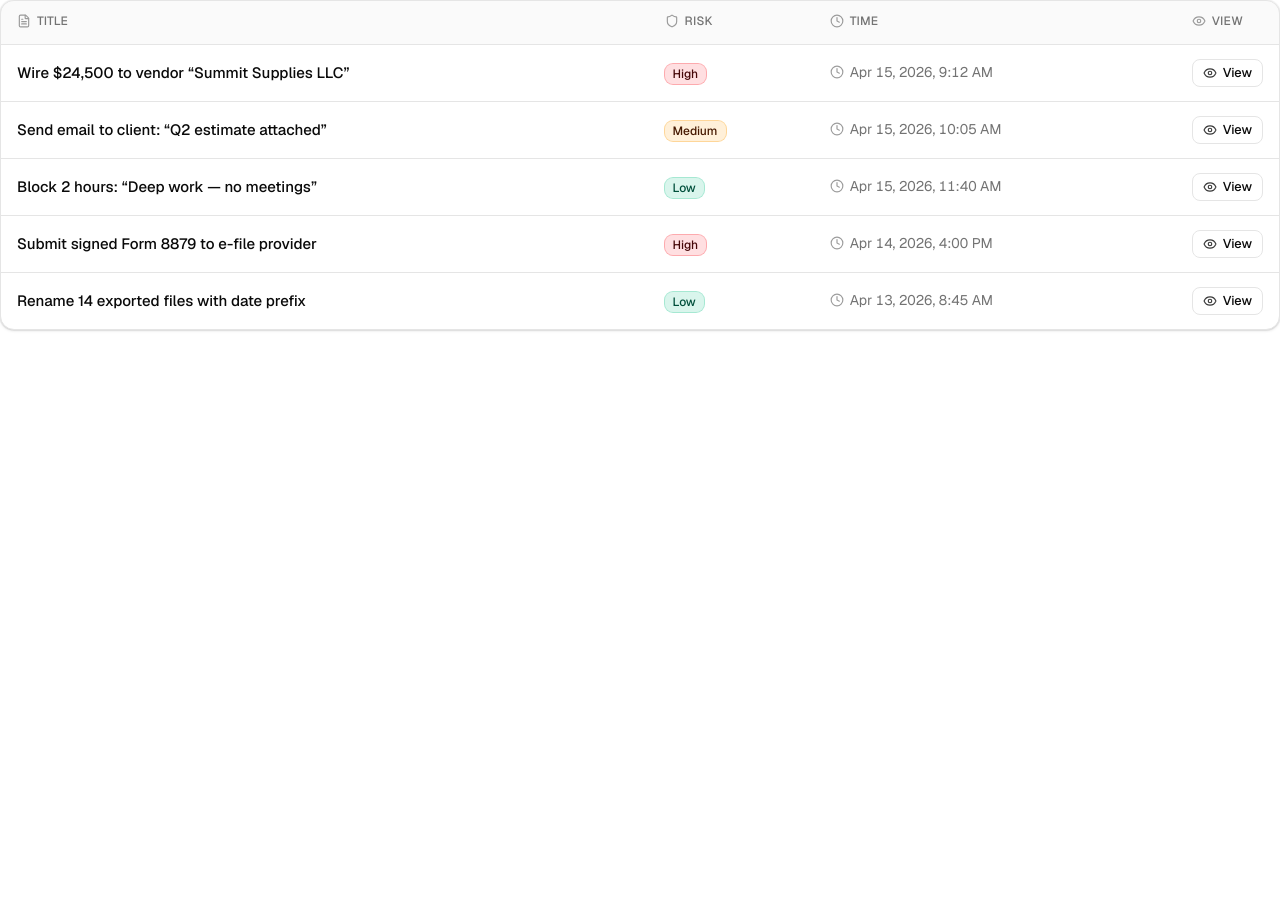
Test: ApprovalInbox › opens the sheet when a row is clicked
Step 1. Click the 2nd row → (640, 73), box [1,44,1279,102]
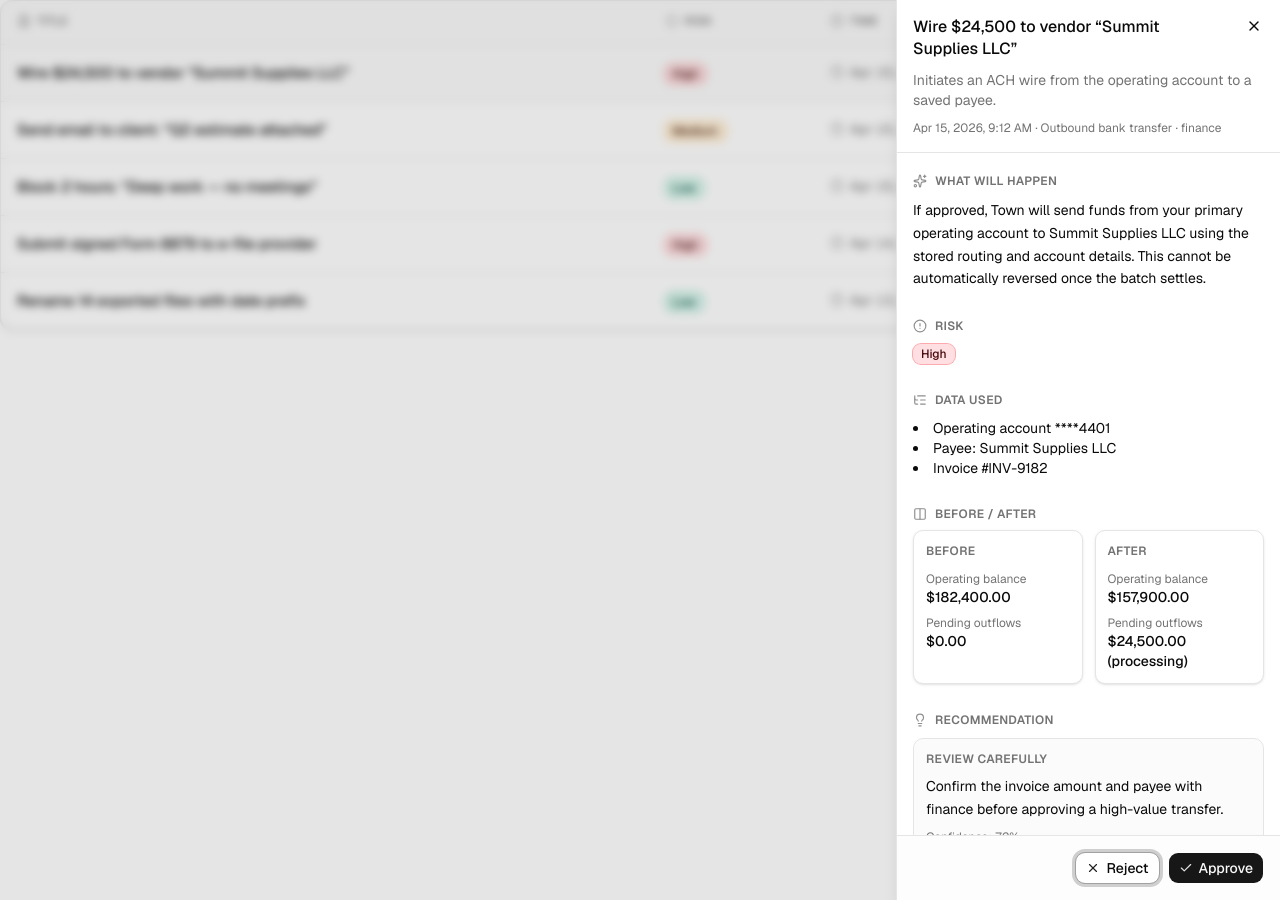
Now the dialog is shown, box [896,0,1279,899]
Now the heading "Wire $24,500 to vendor “Summit Supplies LLC”" is shown, box [913,16,1160,59]
Now the text "Initiates an ACH wire from the operating account to a saved payee." is shown, box [913,70,1264,110]
